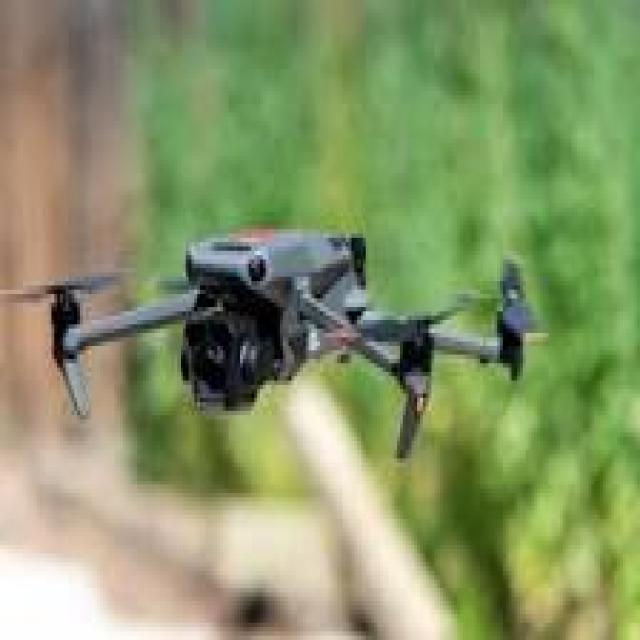Forest: (3, 0, 640, 640)
UAV - Drone: (8, 217, 640, 523)
